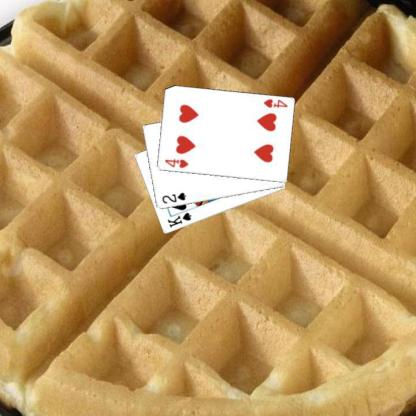2S: (160, 190, 187, 205)
4H: (162, 157, 190, 169), (261, 97, 288, 109)
KS: (165, 210, 192, 230)
